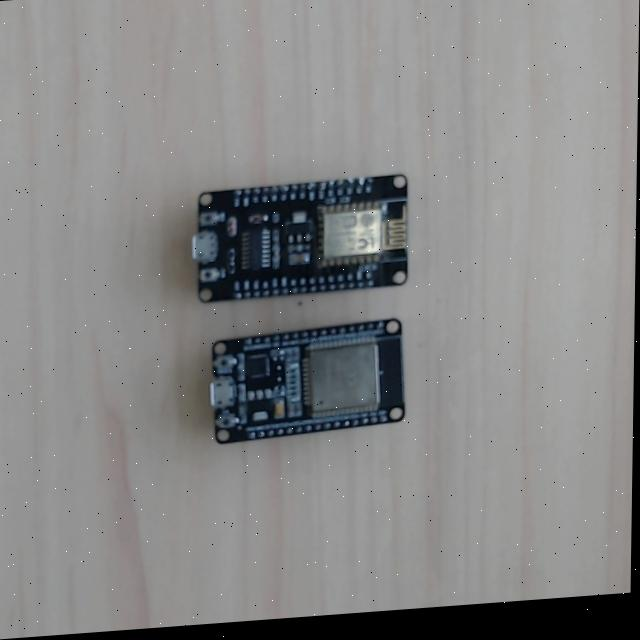ESP32-DevKit: (202, 317, 413, 443)
ESP8266-NodeMCU: (187, 173, 415, 301)
